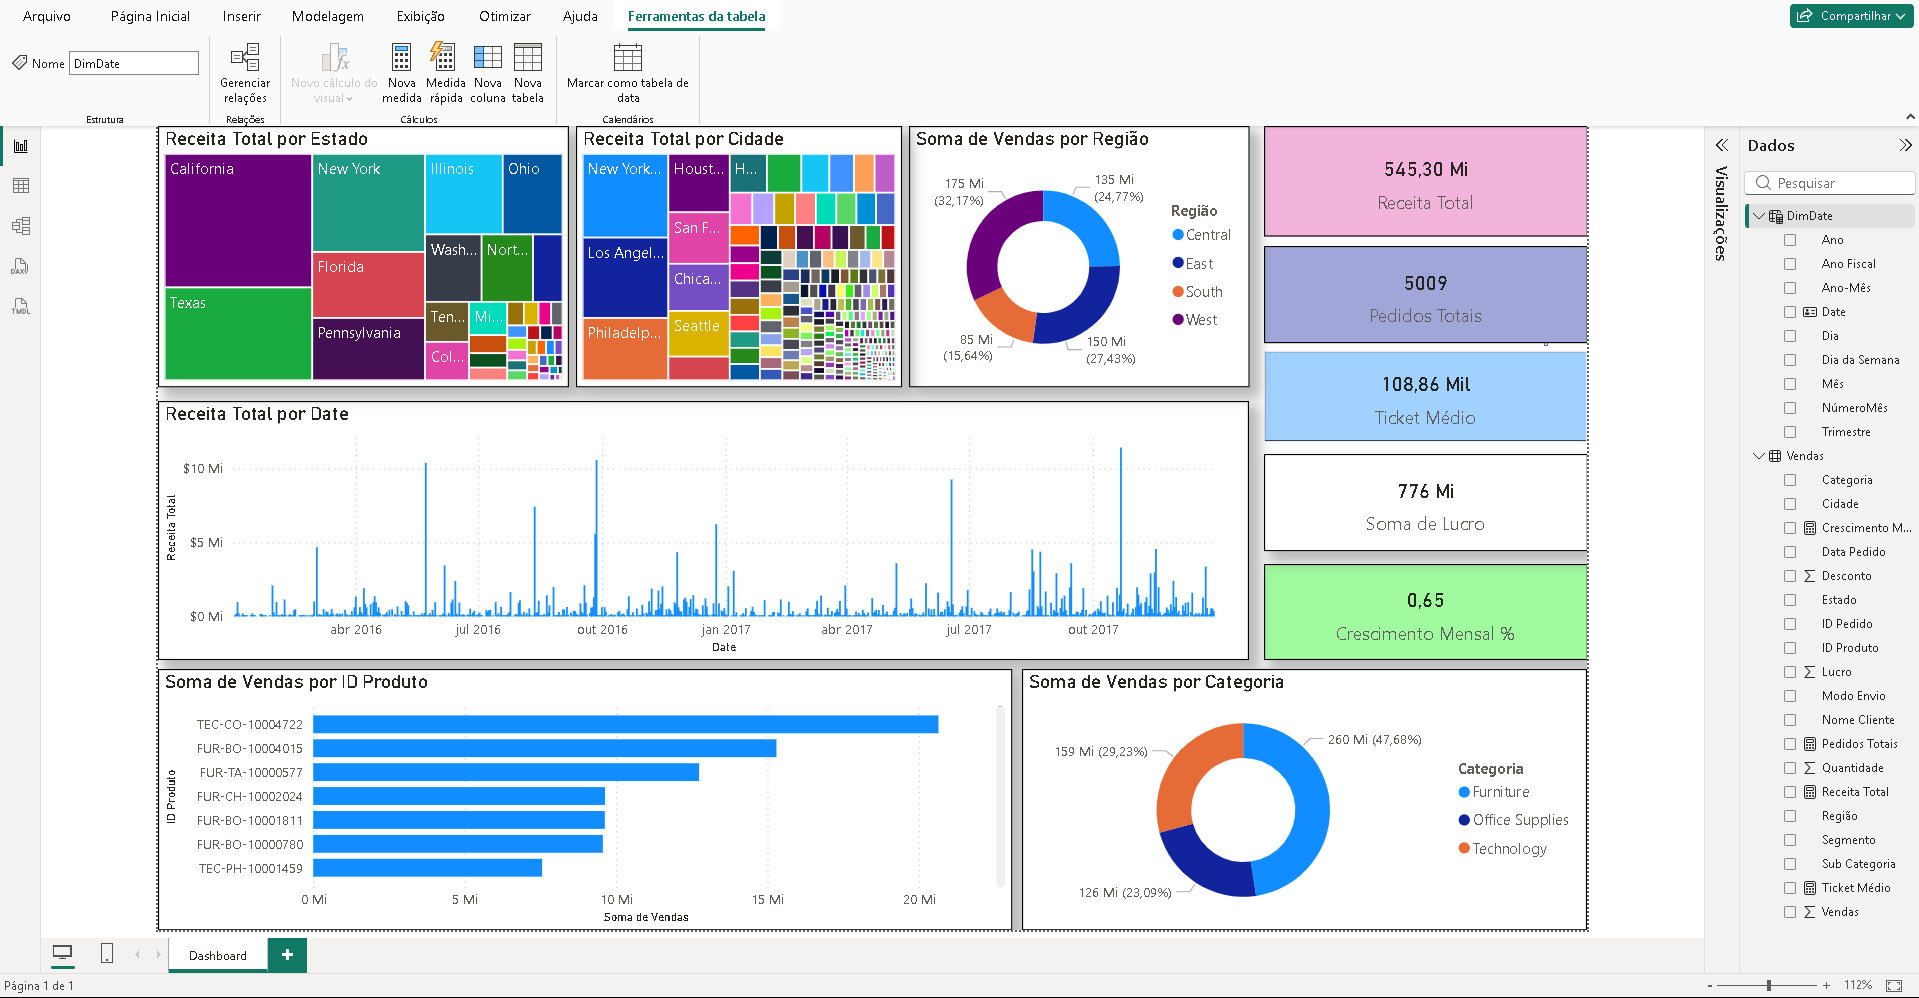

What the dashboard file says about the page in this screenshot:
{"tool":"powerbi","page":{"name":"Dashboard","canvas":[1280,720],"ordinal":0},"visuals":[{"type":"card","title":"ti","fields":{"Values":["Vendas.Ticket Médio"]},"box":[990,201.8,290,80.9],"z":0},{"type":"card","fields":{"Values":["Vendas.Receita Total"]},"box":[990,0,290,99.1],"z":1000},{"type":"card","fields":{"Values":["Vendas.Pedidos Totais"]},"box":[990,107.3,290,87.3],"z":2000},{"type":"card","fields":{"Values":["Vendas.Crescimento Mensal %"]},"box":[990,391.8,290,86.4],"z":3000},{"type":"columnChart","fields":{"Y":["Vendas.Receita Total"],"Category":["DimDate.Date"]},"box":[0,246.4,977.3,231.8],"z":4000},{"type":"clusteredBarChart","fields":{"Y":["Sum(Vendas.Vendas)"],"Category":["Vendas.ID Produto"]},"box":[0,486.4,764.5,233.6],"z":5000},{"type":"donutChart","fields":{"Y":["Sum(Vendas.Vendas)"],"Series":["Vendas.Categoria"]},"box":[773.6,486.4,506.4,233.6],"z":6000},{"type":"donutChart","fields":{"Y":["Sum(Vendas.Vendas)"],"Series":["Vendas.Região"]},"box":[672.7,0,304.5,233.6],"z":7000},{"type":"treemap","fields":{"Details":["Vendas.Estado"],"Values":["Vendas.Receita Total"]},"box":[0,0,368.2,233.6],"z":8000},{"type":"card","fields":{"Values":["Sum(Vendas.Lucro)"]},"box":[990,293.6,290,87.3],"z":9000},{"type":"treemap","fields":{"Group":["Vendas.Cidade"],"Values":["Vendas.Receita Total"]},"box":[374.5,0,291.8,233.6],"z":10000}]}

Visuals, with their boxes on the page's 1280x720 design canvas (x1, y1, x2, y2). These are canvas units, not pixel positions in the 1919x998 screenshot, which may show the page scaled, cropped or inside an application window:
"ti" card: <region>990, 202, 1280, 283</region>
card - Vendas.Receita Total: <region>990, 0, 1280, 99</region>
card - Vendas.Pedidos Totais: <region>990, 107, 1280, 195</region>
card - Vendas.Crescimento Mensal %: <region>990, 392, 1280, 478</region>
columnChart - Vendas.Receita Total x DimDate.Date: <region>0, 246, 977, 478</region>
clusteredBarChart - Sum(Vendas.Vendas) x Vendas.ID Produto: <region>0, 486, 764, 720</region>
donutChart - Sum(Vendas.Vendas) x Vendas.Categoria: <region>774, 486, 1280, 720</region>
donutChart - Sum(Vendas.Vendas) x Vendas.Região: <region>673, 0, 977, 234</region>
treemap - Vendas.Estado x Vendas.Receita Total: <region>0, 0, 368, 234</region>
card - Sum(Vendas.Lucro): <region>990, 294, 1280, 381</region>
treemap - Vendas.Cidade x Vendas.Receita Total: <region>374, 0, 666, 234</region>
